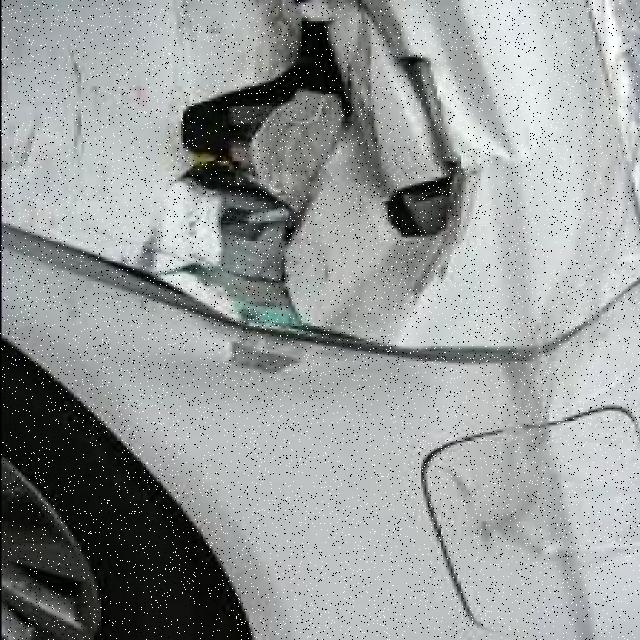damage: (123, 5, 640, 564)
